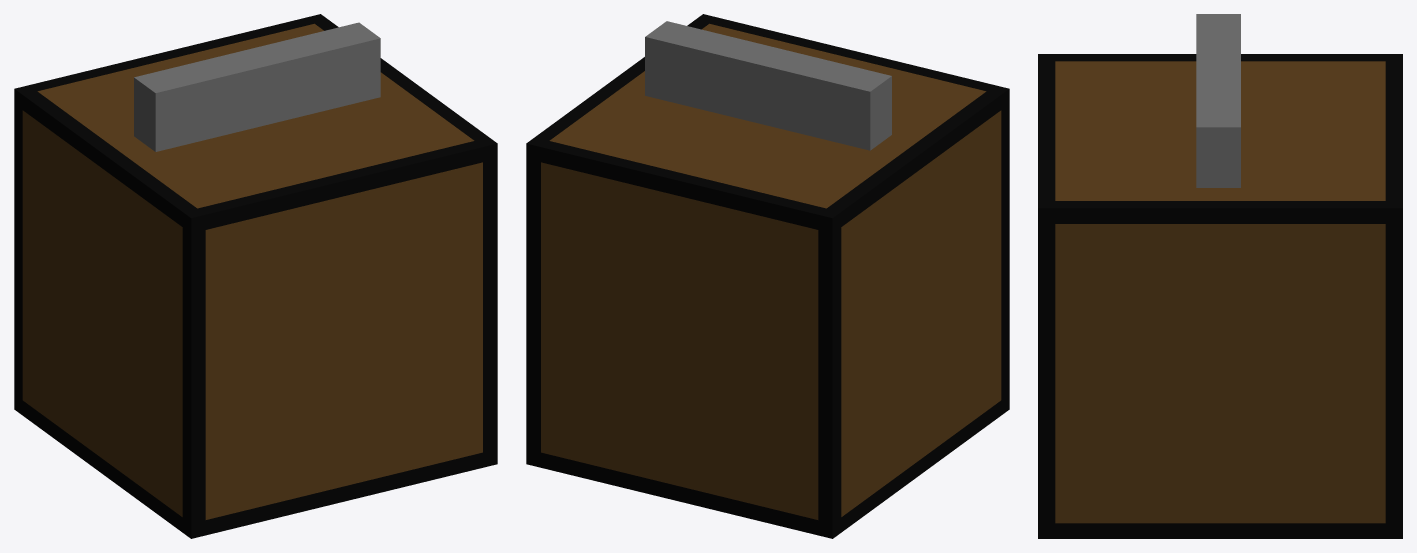
File: ObstacleMid1.glb
3 views of the same model, side by side, from view 1: azimuth 30°, elevation 25°; view 2: azimuth 150°, elevation 25°; view 3: azimuth 270°, elevation 25° (orthographic). The views are drawn at different scales.
Visible parts, largest first — view 1: ObstacleMid, Cube; view 2: ObstacleMid, Cube; view 3: ObstacleMid, Cube.
Part boxes in pixels (x1,y1,x2,y2): ObstacleMid: (14, 14, 497, 538); Cube: (134, 22, 380, 151); ObstacleMid: (526, 14, 1009, 538); Cube: (645, 21, 891, 150); ObstacleMid: (1038, 54, 1402, 538); Cube: (1196, 14, 1240, 187).
Bounding box in the file's own units: 0.98 × 1.16 × 0.98.
